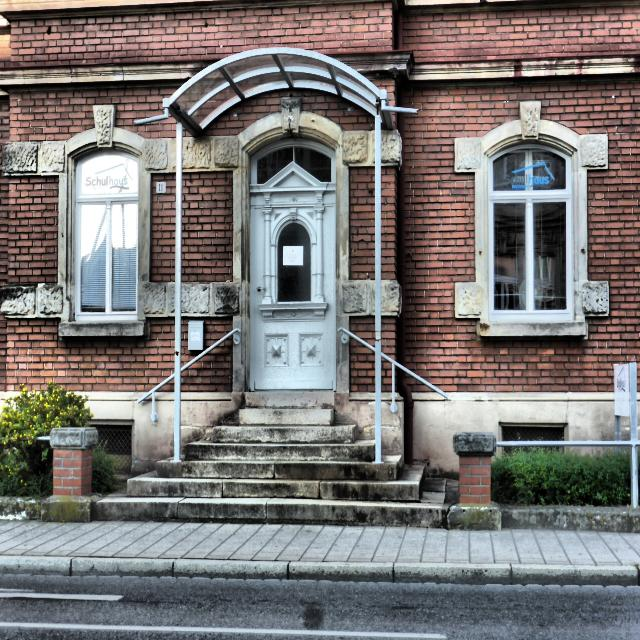escada: (102, 397, 444, 527)
